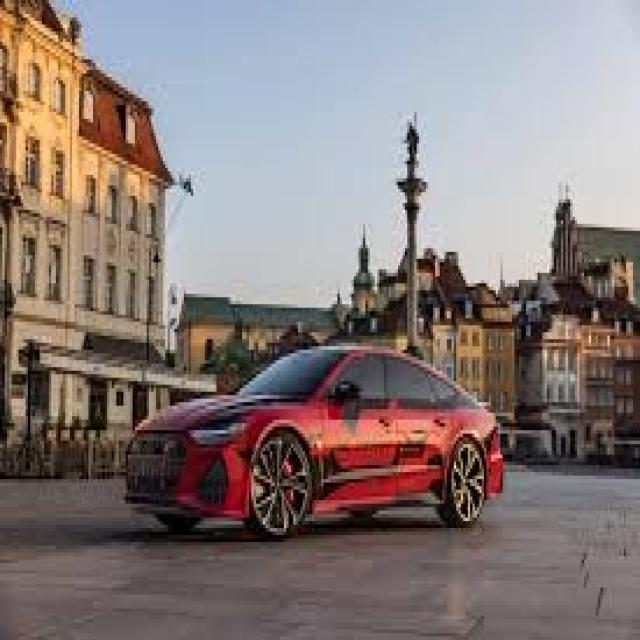red: (129, 318, 498, 561)
